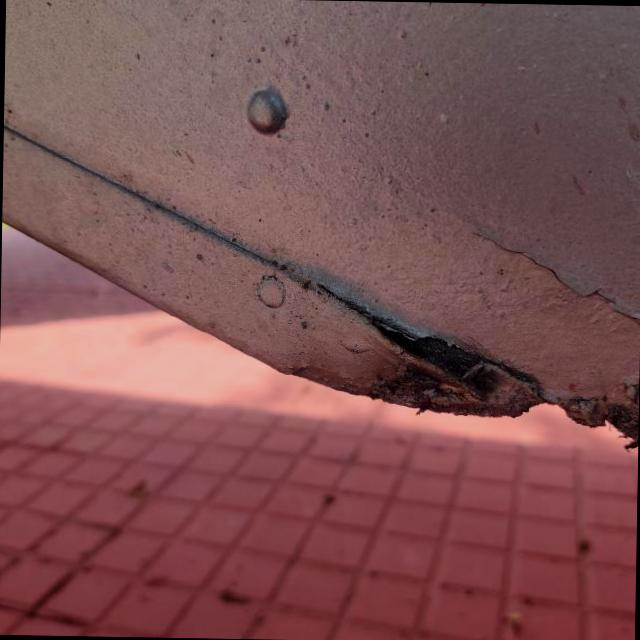crack: (358, 290, 528, 418)
